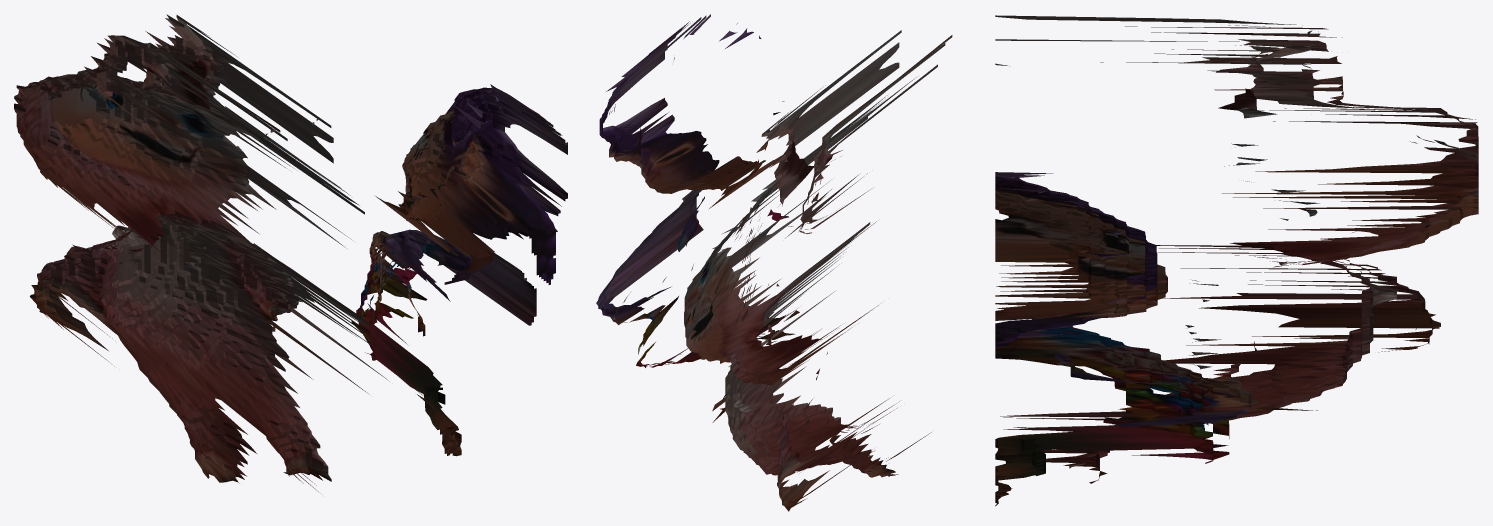
File: frame_00100.glb
3 views of the same model, side by side, from view 1: azimuth 30°, elevation 25°; view 2: azimuth 150°, elevation 25°; view 3: azimuth 270°, elevation 25° (orthographic). The views are drawn at different scales.
Visible parts, largest first — view 1: geometry_0; view 2: geometry_0; view 3: geometry_0.
Boxes of the visible parts, x1=… form: geometry_0: x1=14, y1=14, x2=567, y2=493; geometry_0: x1=596, y1=14, x2=952, y2=511; geometry_0: x1=995, y1=15, x2=1478, y2=506.
Size of the model in its own units: 0.1377 by 0.1556 by 0.16.
1 material, 1 textured.
